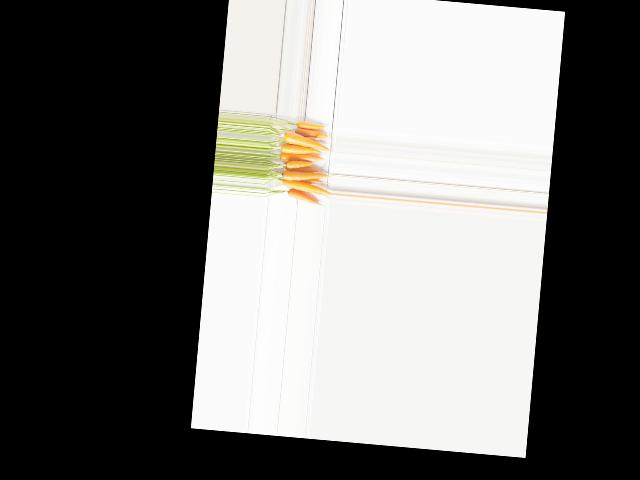carrot: (294, 118, 328, 134)
